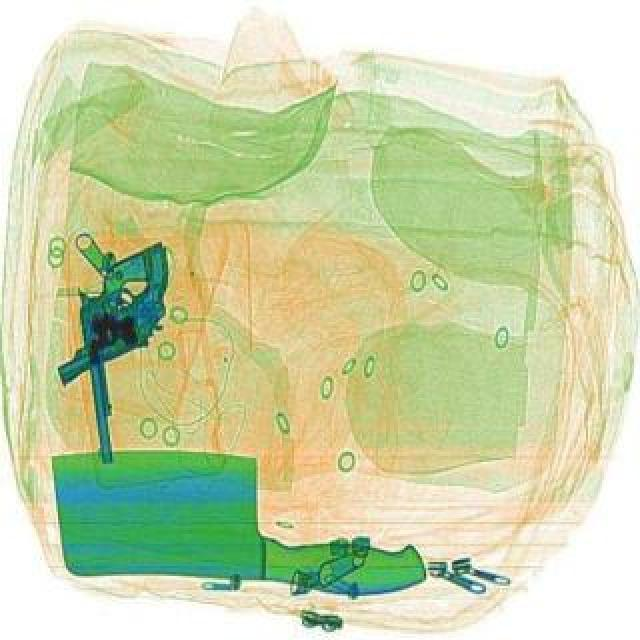gun: (16, 236, 206, 384), (66, 244, 196, 460)
knife: (50, 446, 426, 594)
